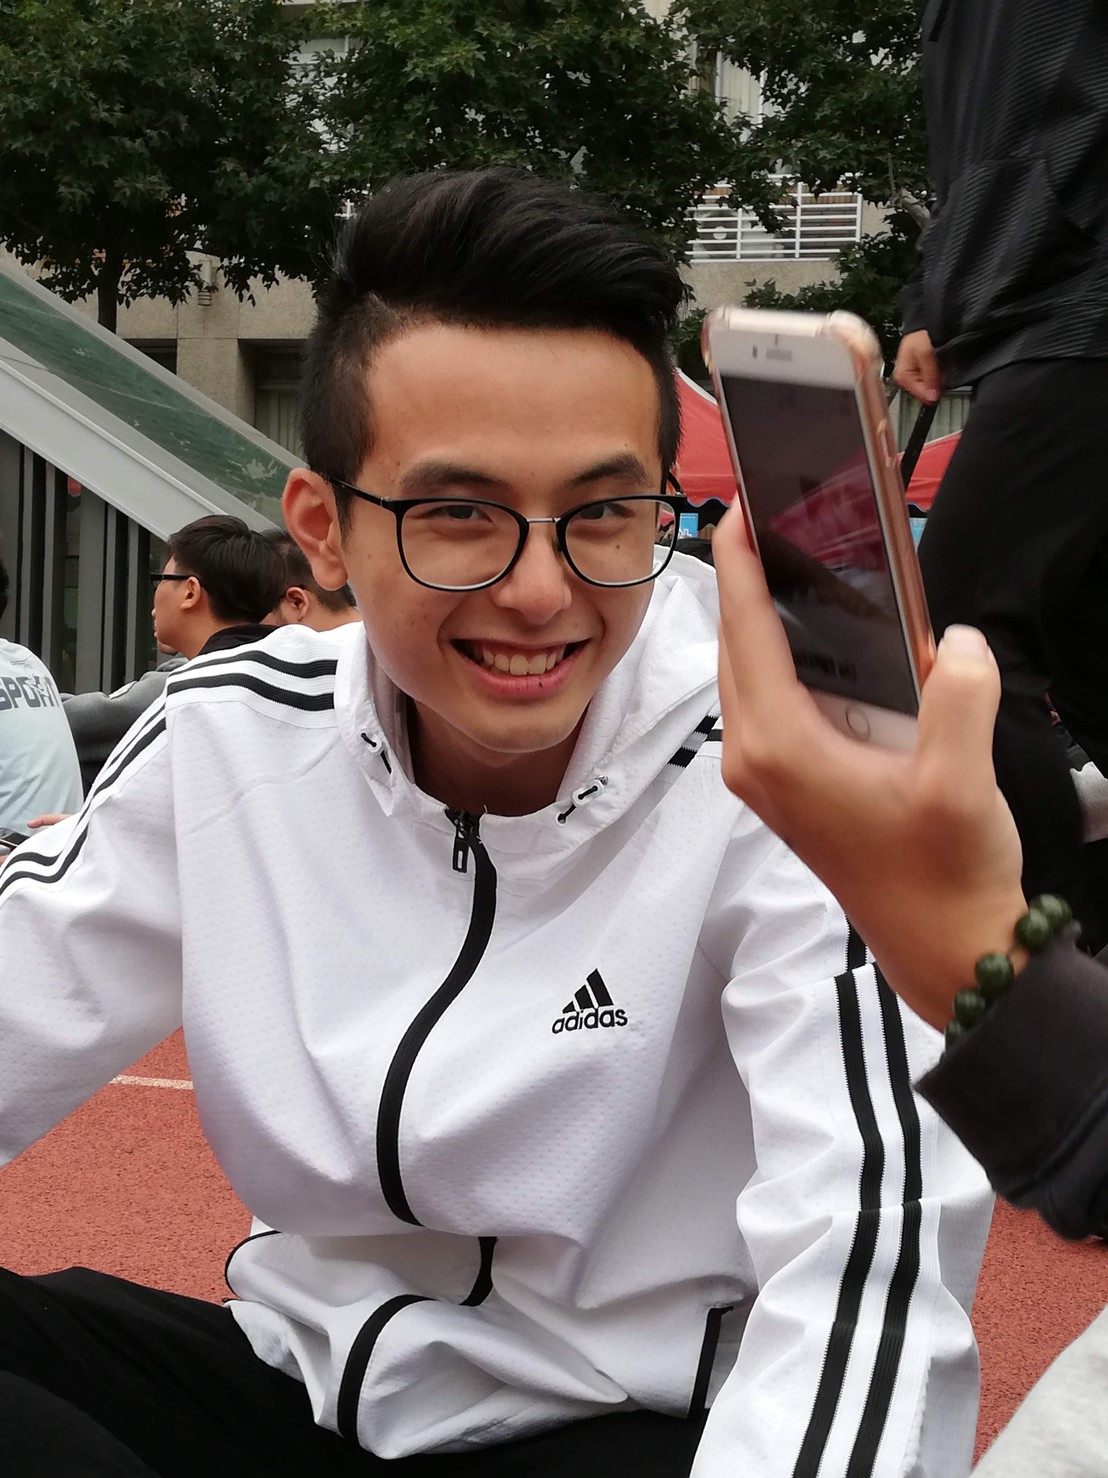people: (267, 147, 707, 1464), (97, 507, 286, 728), (233, 521, 386, 673)
